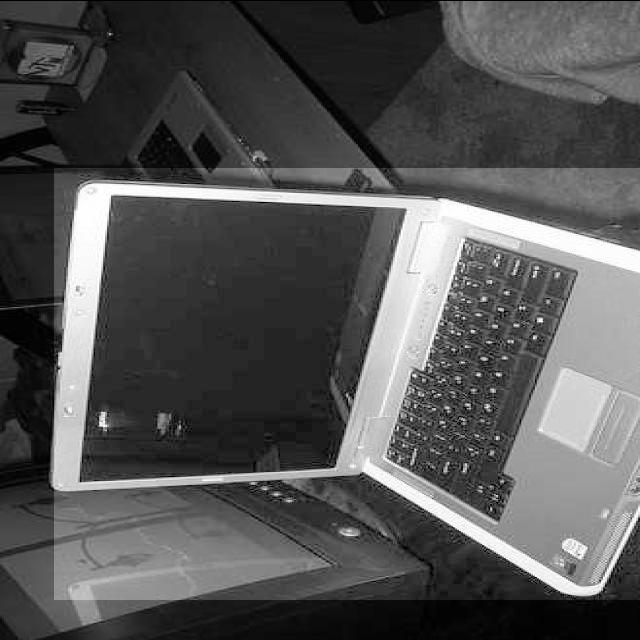-keyboard-: (54, 168, 640, 600)
